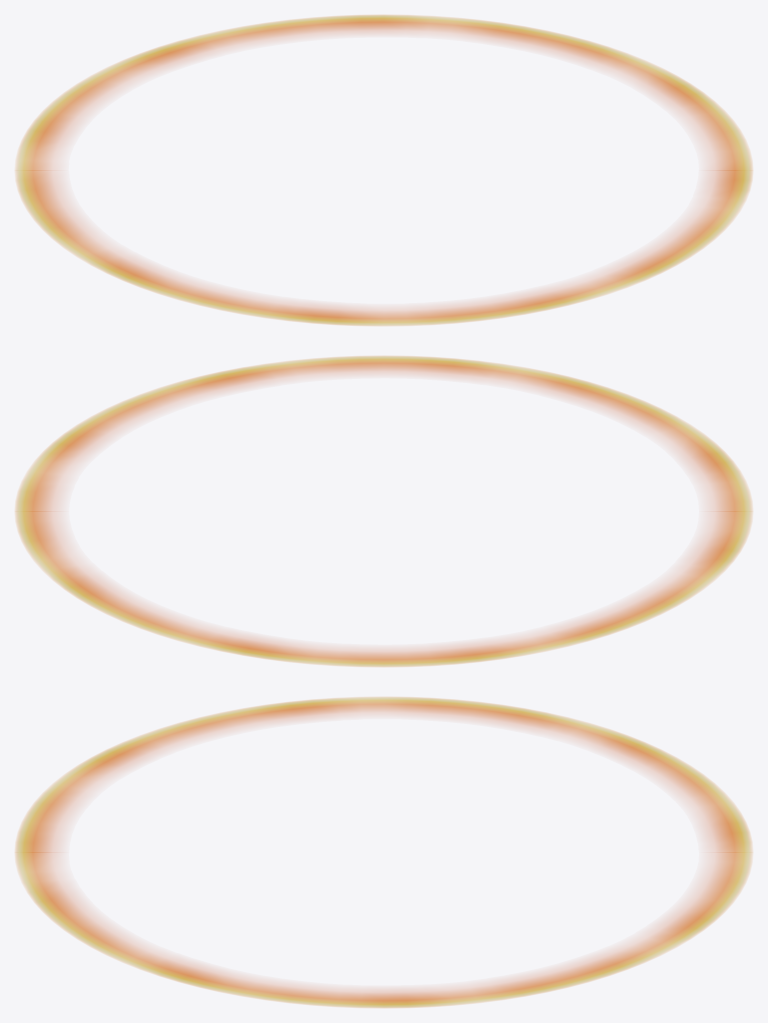
File: e5a-riveter-travel-front.glb
3 views of the same model, one above another, from view 1: azimuth 30°, elevation 25°; view 2: azimuth 150°, elevation 25°; view 3: azimuth 270°, elevation 25° (orthographic).
Visible parts, largest first — view 1: e5a-riveter-travel-front; view 2: e5a-riveter-travel-front; view 3: e5a-riveter-travel-front.
Boxes of the visible parts, left/top/right/bottom form: e5a-riveter-travel-front: left=15, top=14, right=752, bottom=325; e5a-riveter-travel-front: left=15, top=356, right=752, bottom=666; e5a-riveter-travel-front: left=15, top=697, right=752, bottom=1008.
Size of the model in its own units: 2 by 0 by 2.
